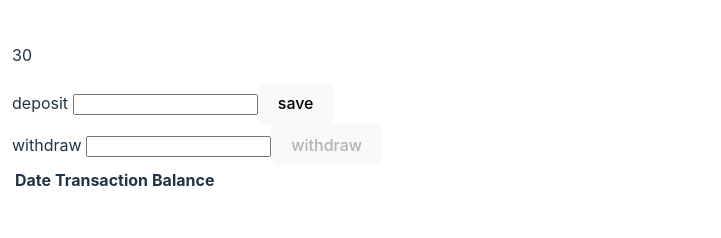
Scenario: withdraw money › can withdraw money
Type "20" into the number field labelled "withdraw" at (179, 146), box top-left (86, 136), bottom-right (271, 157)
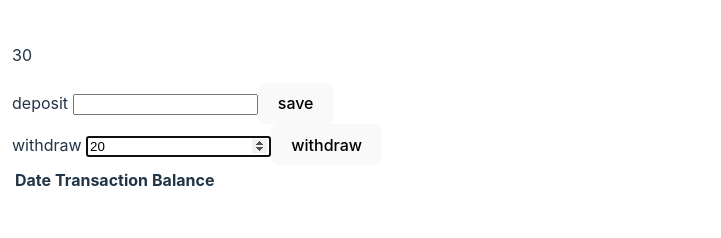
Click the button "withdraw" at (327, 145), box top-left (271, 124), bottom-right (382, 165)
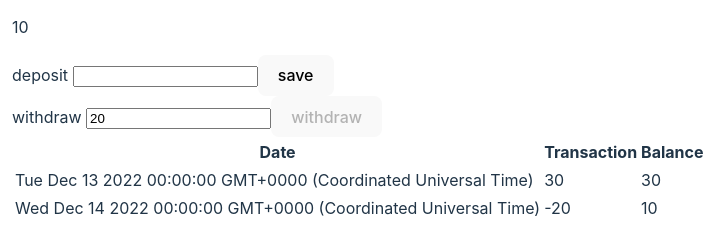
Expected: the message reads "10", top-left (12, 17), bottom-right (29, 37)
Expected: the 1st cell "30" is shown, top-left (543, 167), bottom-right (638, 193)
Expected: the 2nd cell "30" is shown, top-left (640, 167), bottom-right (704, 193)
